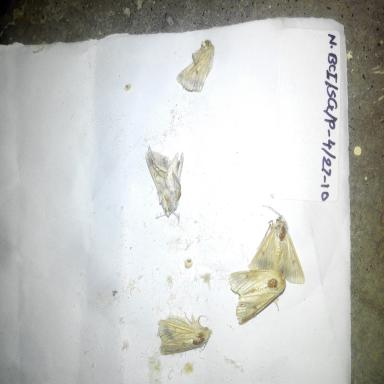abw: (246, 202, 308, 287), (224, 263, 289, 330), (142, 140, 188, 228), (152, 306, 216, 361), (174, 35, 218, 97)
